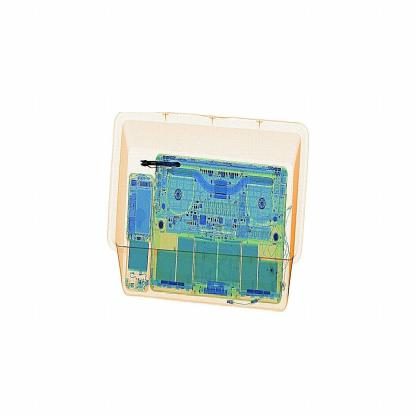knife: (143, 154, 181, 172)
